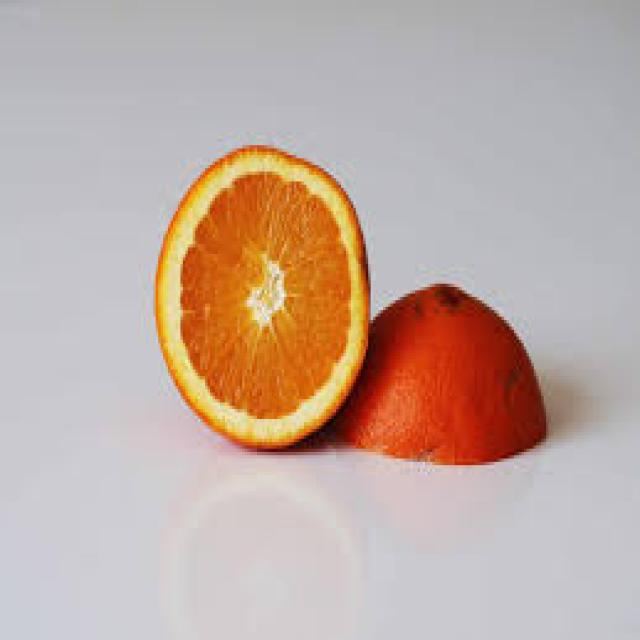orange: (158, 143, 373, 447)
